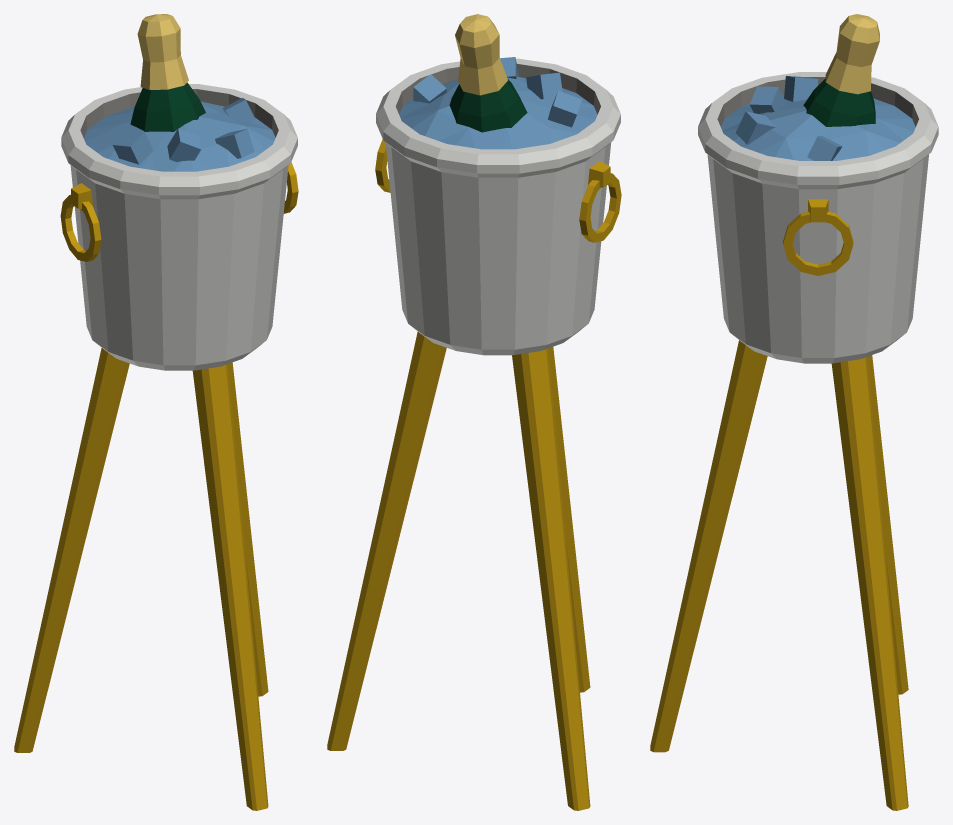
Rendered from champagne-ice-bucket-stand-5b9d7a.glb.
3 views of the same model, side by side, from view 1: azimuth 30°, elevation 25°; view 2: azimuth 150°, elevation 25°; view 3: azimuth 270°, elevation 25° (orthographic). The views are drawn at different scales.
Visible parts, largest first — view 1: stand, bottle-mesh, ring-r-mesh; view 2: stand, bottle-mesh, ring-r-mesh, ring-l-mesh; view 3: stand, bottle-mesh, ring-l-mesh.
Boxes of the visible parts, bbox=[...] form: stand: bbox=[14, 84, 297, 810]; bottle-mesh: bbox=[130, 14, 205, 131]; ring-r-mesh: bbox=[60, 194, 101, 261]; stand: bbox=[327, 57, 620, 810]; bottle-mesh: bbox=[449, 14, 527, 132]; ring-r-mesh: bbox=[579, 173, 621, 242]; ring-l-mesh: bbox=[375, 139, 390, 192]; stand: bbox=[650, 72, 938, 810]; bottle-mesh: bbox=[803, 14, 879, 126]; ring-l-mesh: bbox=[783, 211, 853, 275].
Size of the model in its own units: 0.3208 by 0.8705 by 0.3115.
